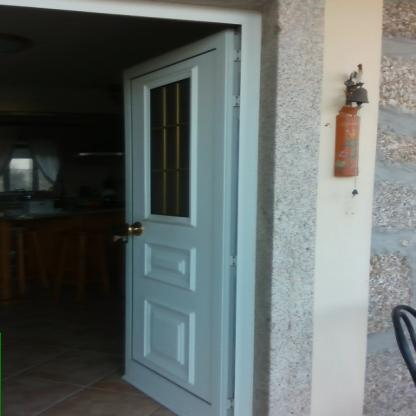open: (0, 2, 268, 416)
